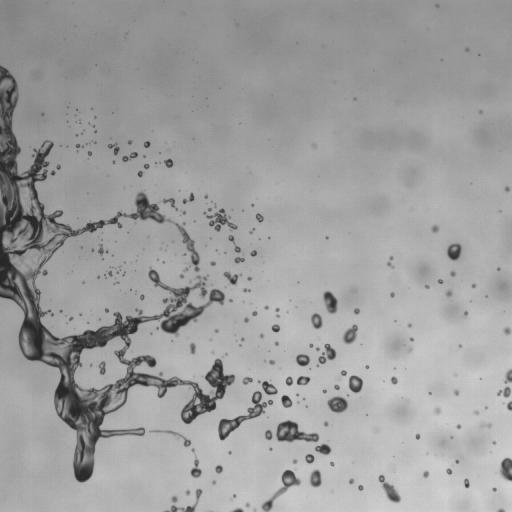droplet: (164, 488, 202, 511), (204, 208, 237, 231), (316, 344, 336, 366), (327, 396, 347, 413), (498, 457, 511, 481), (323, 291, 337, 313), (342, 324, 357, 344), (258, 381, 277, 395), (446, 243, 461, 260), (348, 375, 362, 393), (223, 271, 240, 285), (309, 469, 321, 487), (190, 458, 201, 477), (310, 313, 322, 329), (315, 443, 331, 455), (296, 354, 310, 366), (497, 386, 511, 397), (281, 394, 292, 407), (295, 376, 310, 385), (108, 143, 119, 154), (98, 361, 105, 374), (98, 244, 106, 255), (242, 376, 253, 384), (305, 454, 314, 463), (164, 159, 173, 167), (285, 376, 293, 385), (265, 430, 273, 439), (214, 465, 222, 473), (234, 257, 244, 263), (256, 213, 263, 221), (431, 225, 439, 232), (272, 324, 279, 332), (503, 327, 511, 334), (481, 422, 491, 427), (434, 407, 441, 414), (422, 470, 429, 477), (234, 244, 240, 252), (391, 376, 397, 384), (464, 478, 469, 487), (228, 235, 234, 242), (144, 141, 150, 147), (446, 290, 452, 296), (453, 389, 459, 395), (446, 468, 452, 474), (138, 170, 143, 177), (144, 163, 149, 169), (251, 250, 256, 256), (116, 267, 121, 273), (354, 308, 359, 314), (252, 310, 257, 316), (504, 186, 509, 191), (249, 228, 254, 233), (107, 271, 112, 276), (450, 271, 455, 276), (334, 384, 339, 389), (415, 434, 420, 439), (358, 485, 363, 490), (185, 490, 190, 495), (245, 502, 250, 507), (76, 144, 82, 148), (243, 288, 249, 292), (349, 478, 353, 484), (51, 170, 55, 175), (210, 261, 215, 265), (390, 292, 394, 297), (464, 311, 468, 316), (269, 360, 274, 364), (292, 459, 297, 463), (128, 140, 132, 144), (56, 165, 60, 169), (247, 276, 251, 280), (438, 279, 442, 283), (140, 295, 144, 299), (264, 305, 268, 309), (244, 318, 248, 322), (474, 410, 478, 414), (324, 422, 328, 426), (456, 424, 460, 428), (455, 459, 459, 463), (41, 112, 44, 116), (312, 144, 316, 147), (87, 152, 91, 155), (471, 284, 475, 287), (105, 308, 108, 312), (275, 308, 279, 311), (69, 316, 72, 320), (260, 334, 263, 338), (275, 341, 278, 345), (309, 344, 313, 347), (315, 347, 319, 350), (365, 365, 369, 368), (322, 389, 326, 392), (330, 462, 333, 466), (465, 48, 468, 51), (208, 208, 211, 211), (182, 211, 185, 214), (425, 285, 428, 288), (410, 337, 413, 340), (191, 449, 194, 452), (493, 488, 496, 491), (436, 4, 438, 7), (479, 110, 481, 113), (112, 161, 115, 163), (204, 195, 207, 197), (230, 299, 232, 302), (408, 324, 411, 326), (215, 329, 217, 332), (241, 338, 244, 340), (408, 349, 411, 351), (211, 351, 214, 353), (493, 441, 495, 444), (228, 451, 231, 453), (212, 481, 215, 483), (253, 509, 256, 511), (94, 130, 96, 132), (251, 204, 253, 206), (326, 236, 328, 238), (115, 281, 117, 283), (60, 310, 62, 312), (277, 315, 279, 317), (233, 495, 235, 497)
ligament: (0, 65, 235, 482), (218, 391, 273, 440), (261, 469, 300, 511), (275, 420, 319, 442), (150, 429, 190, 446), (378, 474, 401, 502), (161, 198, 176, 209), (122, 152, 137, 161), (182, 193, 194, 203), (504, 368, 511, 383), (336, 370, 346, 379), (387, 256, 393, 267), (505, 400, 511, 411), (190, 342, 195, 354), (231, 507, 244, 511), (497, 508, 505, 511)
